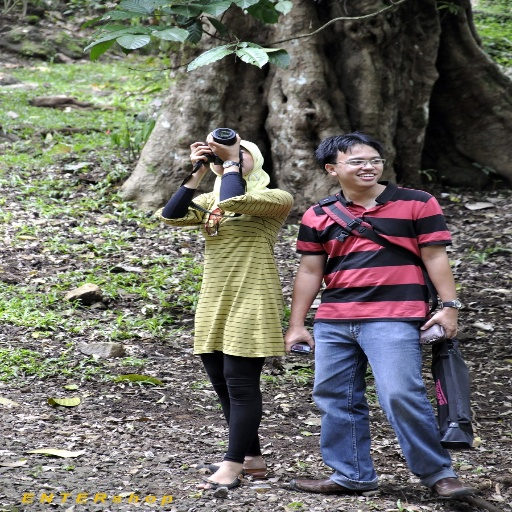hand: (419, 305, 460, 337), (280, 324, 314, 354), (204, 132, 241, 159), (187, 139, 211, 169)
